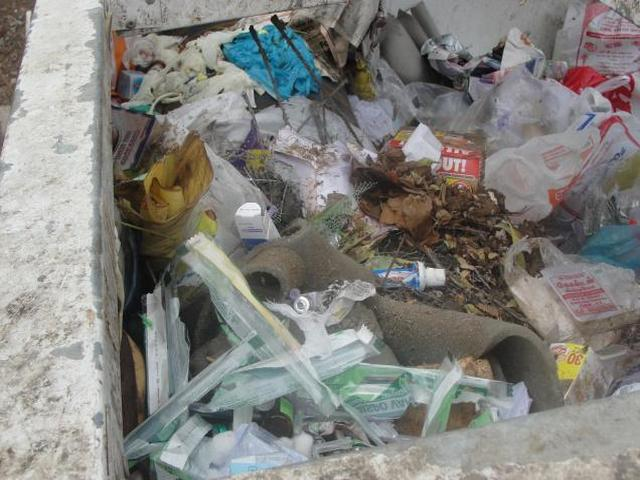garbage: (130, 48, 557, 401)
